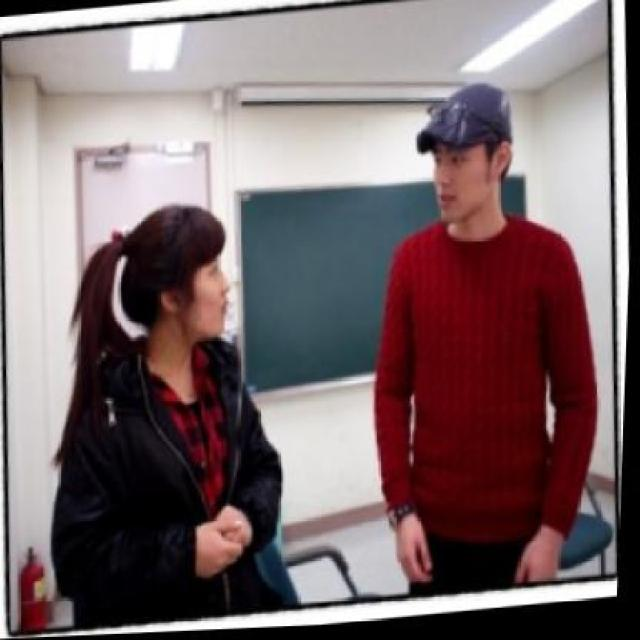hat: (417, 87, 513, 158)
